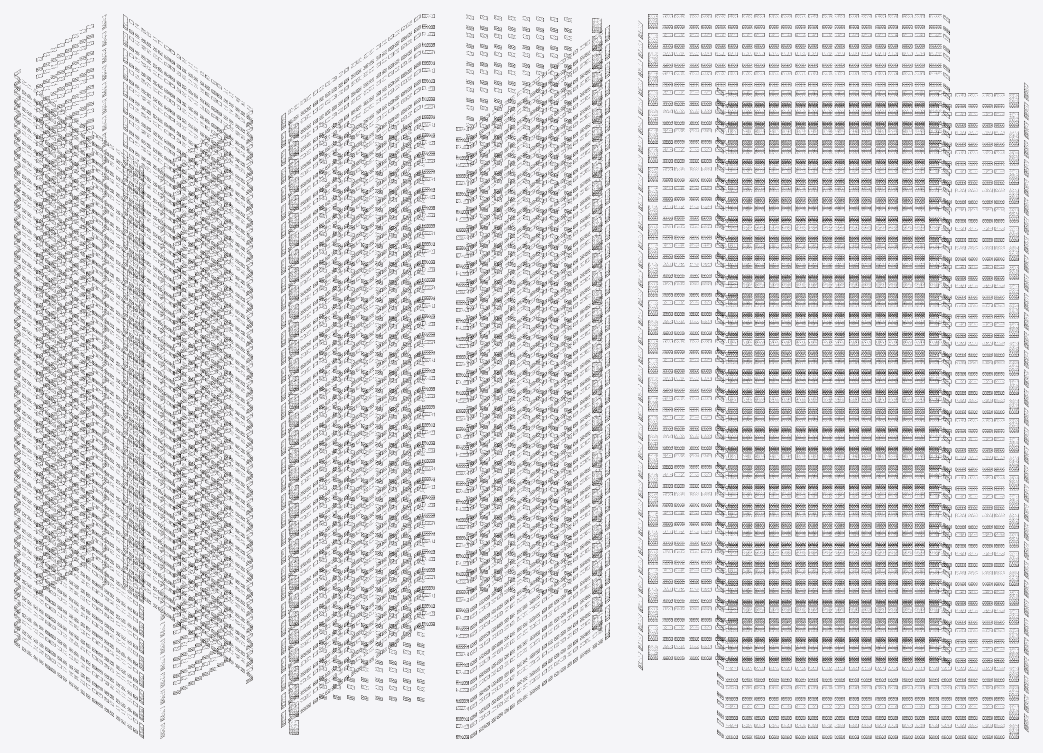
The model's file is bldgTower1Screen.FBX.
The picture shows the model from 3 angles, left to right: view 1: azimuth 30°, elevation 25°; view 2: azimuth 150°, elevation 25°; view 3: azimuth 270°, elevation 25°; orthographic projection. The views are drawn at different scales.
Parts seen in each view (by area): view 1: mul frame (×2), mul frame066, mul frame063, mul frame048, mul frame062, mul frame065, mul frame039, mul frame050, mul frame067, mul frame038, mul frame043, mul frame042 (+63 smaller); view 2: mul frame065, mul frame067, mul frame066, mul frame064, mul frame040, mul frame063, mul frame058, mul frame036, mul frame050, mul frame039, mul frame061, mul frame043 (+56 smaller); view 3: mul frame066, mul frame063, mul frame046, mul frame049, mul frame038, mul frame035, mul frame055, mul frame052, mul frame041, mul frame058, mul frame060, mul frame043 (+54 smaller).
Part boxes in pixels (bbox=[...]): mul frame (×2): bbox=[14, 547, 252, 738]; mul frame066: bbox=[14, 31, 252, 198]; mul frame063: bbox=[14, 82, 252, 249]; mul frame048: bbox=[14, 335, 252, 502]; mul frame062: bbox=[14, 98, 252, 266]; mul frame065: bbox=[14, 48, 252, 215]; mul frame039: bbox=[14, 486, 252, 654]; mul frame050: bbox=[14, 301, 252, 468]; mul frame067: bbox=[14, 14, 252, 181]; mul frame038: bbox=[14, 503, 252, 670]; mul frame043: bbox=[14, 419, 252, 586]; mul frame042: bbox=[14, 436, 252, 603]; mul frame065: bbox=[281, 50, 609, 177]; mul frame067: bbox=[281, 14, 609, 141]; mul frame066: bbox=[281, 32, 609, 159]; mul frame064: bbox=[281, 68, 609, 195]; mul frame040: bbox=[281, 502, 609, 630]; mul frame063: bbox=[281, 86, 609, 213]; mul frame058: bbox=[281, 177, 609, 304]; mul frame036: bbox=[281, 575, 609, 702]; mul frame050: bbox=[281, 321, 609, 449]; mul frame039: bbox=[281, 521, 609, 648]; mul frame061: bbox=[281, 122, 609, 250]; mul frame043: bbox=[281, 448, 609, 575]; mul frame066: bbox=[639, 33, 1028, 127]; mul frame063: bbox=[638, 90, 1028, 184]; mul frame046: bbox=[639, 415, 1028, 509]; mul frame049: bbox=[639, 358, 1028, 452]; mul frame038: bbox=[638, 568, 1028, 662]; mul frame035: bbox=[638, 625, 1027, 719]; mul frame055: bbox=[638, 243, 1027, 337]; mul frame052: bbox=[638, 300, 1027, 394]; mul frame041: bbox=[639, 511, 1027, 605]; mul frame058: bbox=[639, 186, 1027, 280]; mul frame060: bbox=[639, 147, 1027, 241]; mul frame043: bbox=[639, 472, 1027, 566].
Size of the model in its own units: 33.68 by 128 by 70.33.
2 materials, 1 textured.
